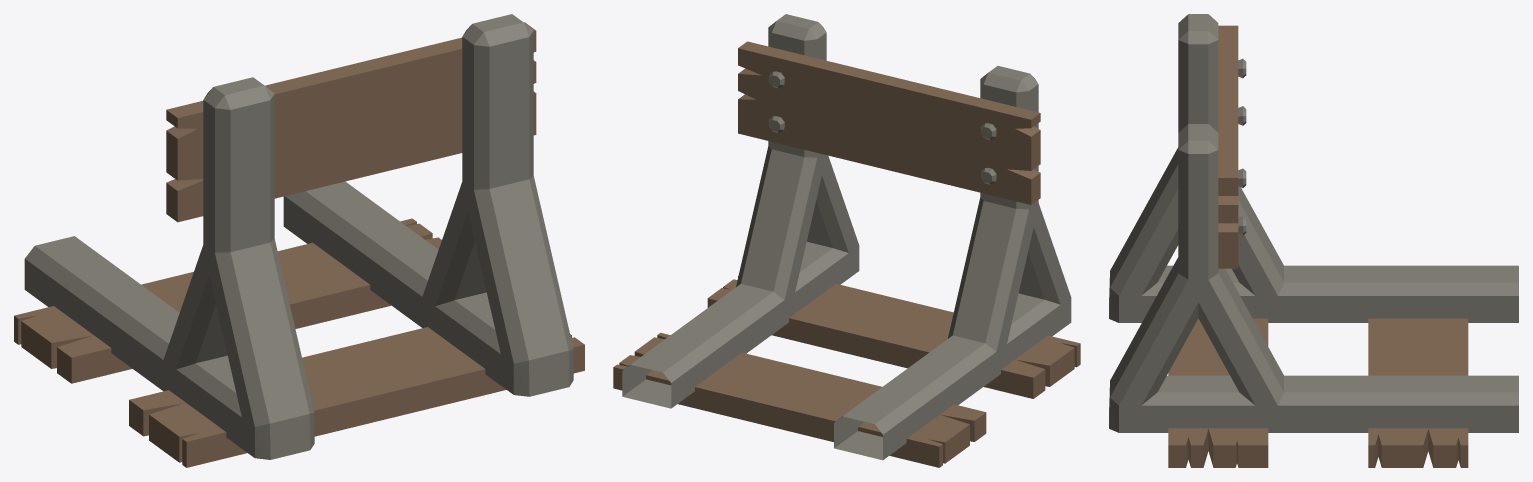
Rendered from Cave_Prop_Railway_Bumpstop.fbx.
3 renders of one model, left to right at view 1: azimuth 30°, elevation 25°; view 2: azimuth 150°, elevation 25°; view 3: azimuth 270°, elevation 25°, orthographic. The views are drawn at different scales.
Visible parts, largest first — view 1: object6, object9, object3, object2, object1; view 2: object3, object6, object9, object1, object2; view 3: object9, object6, object1, object2, object3.
Boxes of the visible parts, left/top/right/bottom form: object6: left=24, top=77, right=314, bottom=459; object9: left=283, top=14, right=573, bottom=396; object3: left=166, top=22, right=536, bottom=222; object2: left=129, top=327, right=584, bottom=467; object1: left=14, top=218, right=441, bottom=383; object3: left=738, top=41, right=1040, bottom=204; object6: left=834, top=66, right=1071, bottom=460; object9: left=622, top=14, right=859, bottom=408; object1: left=613, top=332, right=986, bottom=467; object2: left=707, top=276, right=1080, bottom=398; object9: left=1109, top=124, right=1518, bottom=432; object6: left=1109, top=14, right=1518, bottom=322; object1: left=1368, top=318, right=1468, bottom=467; object2: left=1168, top=318, right=1268, bottom=467; object3: left=1218, top=25, right=1238, bottom=268.
Bounding box in the file's own units: 1 × 0.8444 × 1.02.
